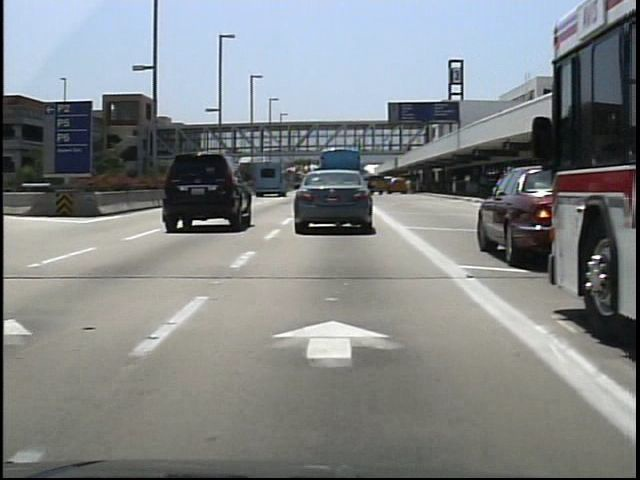person: (400, 175, 414, 199), (384, 136, 397, 158), (352, 136, 365, 156)
